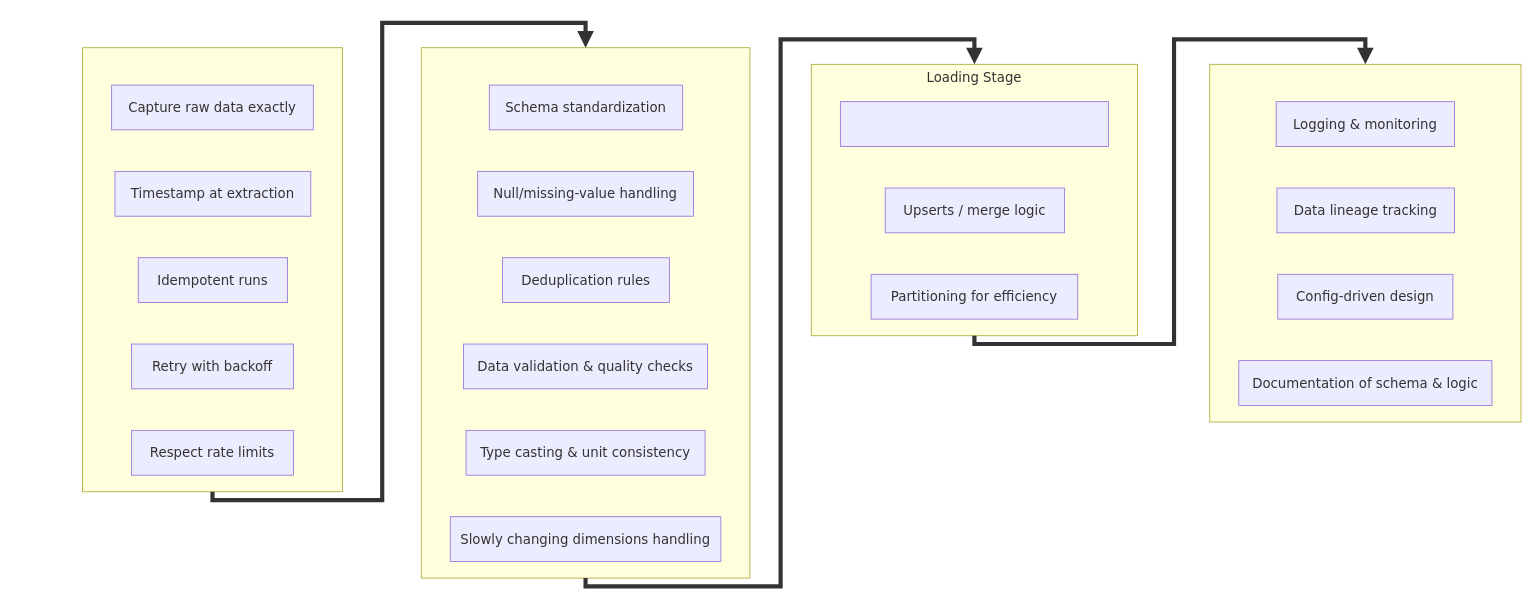
Some shapes in this 1536 by 610 pixel diagram are drawn without their labels. The shapes that lost their labels are listed below. From the top down, each one's box as (x1, y1, x2, y2) in pixels, then its label:
(840, 101, 1108, 146): Incremental loading with watermark
(1209, 63, 1521, 422): Cross-Cutting Rules
(82, 47, 342, 492): Extraction Stage
(420, 47, 750, 578): Transformation Stage
